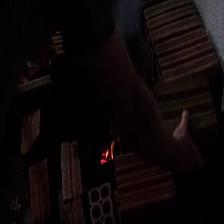fire: (100, 142, 121, 165)
